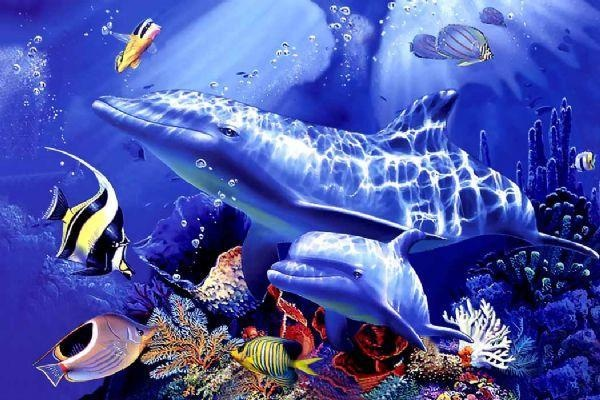fish: (91, 89, 597, 258), (266, 230, 476, 347)
